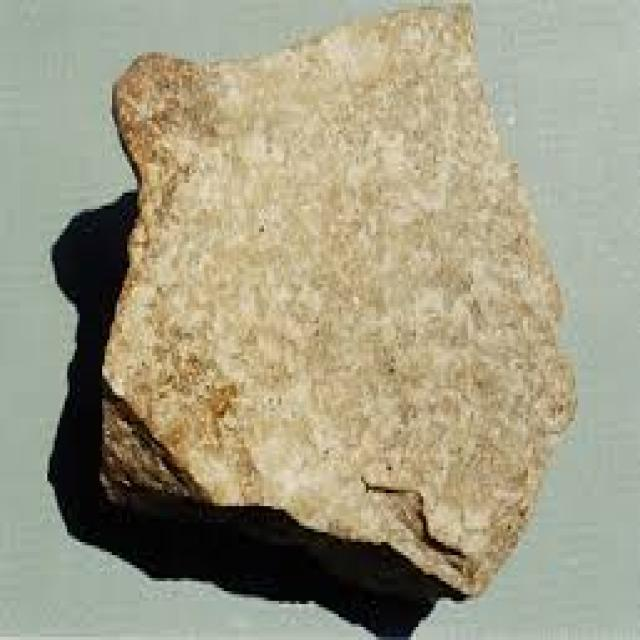Metamorphic: (92, 6, 570, 598)
